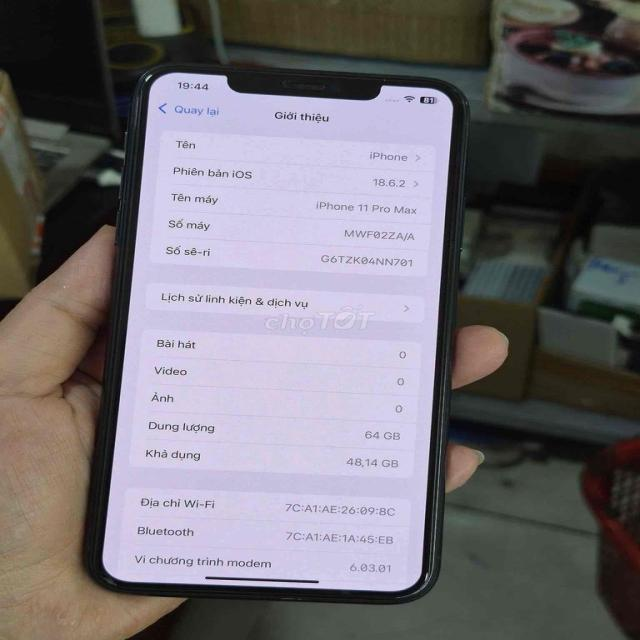physical_damage: (90, 563, 129, 596)
scratch: (377, 73, 399, 95)
